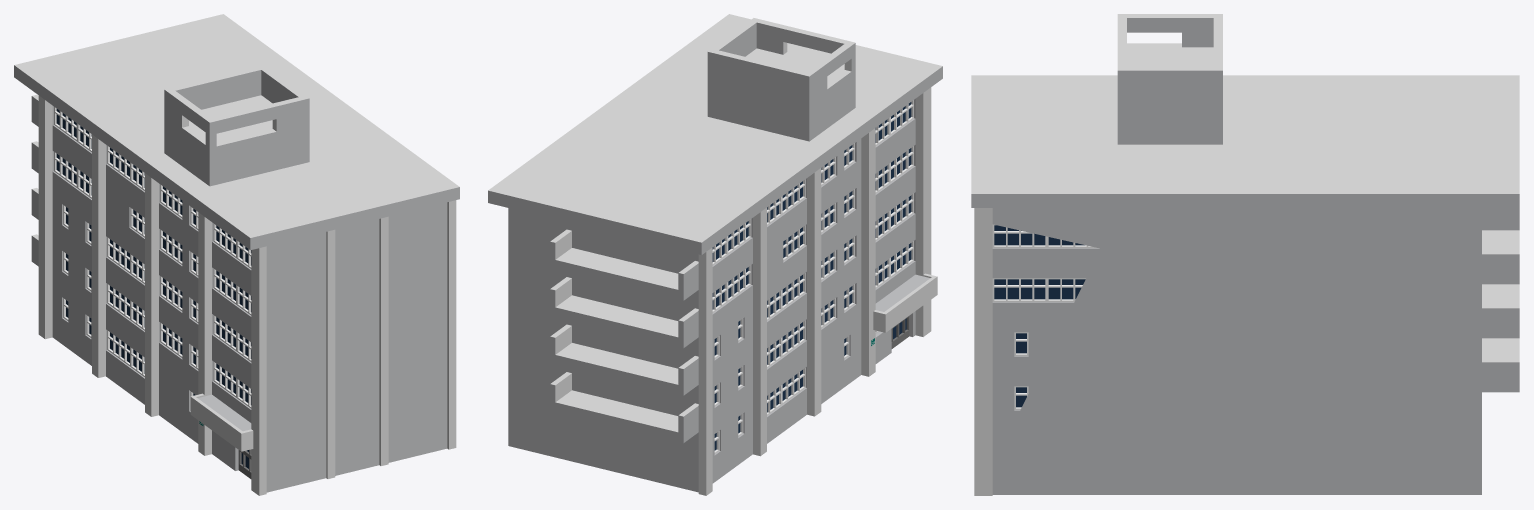
File: Building_G.fbx
3 views of the same model, side by side, from view 1: azimuth 30°, elevation 25°; view 2: azimuth 150°, elevation 25°; view 3: azimuth 270°, elevation 25° (orthographic). The views are drawn at different scales.
Visible parts, largest first — view 1: Building_G; view 2: Building_G; view 3: Building_G.
Boxes of the visible parts, left/top/right/bottom form: Building_G: left=14, top=14, right=459, bottom=495; Building_G: left=488, top=14, right=942, bottom=495; Building_G: left=971, top=14, right=1519, bottom=495.
Bounding box in the file's own units: 16.03 × 23.57 × 31.06.
